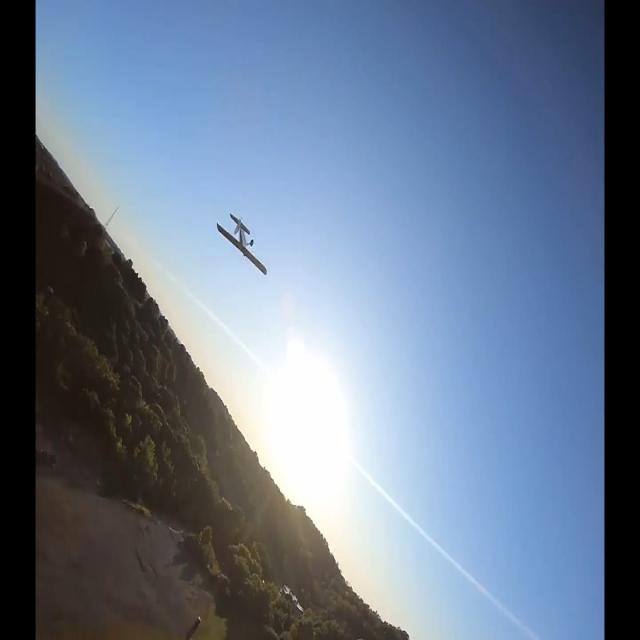iha: (216, 245, 267, 248)
